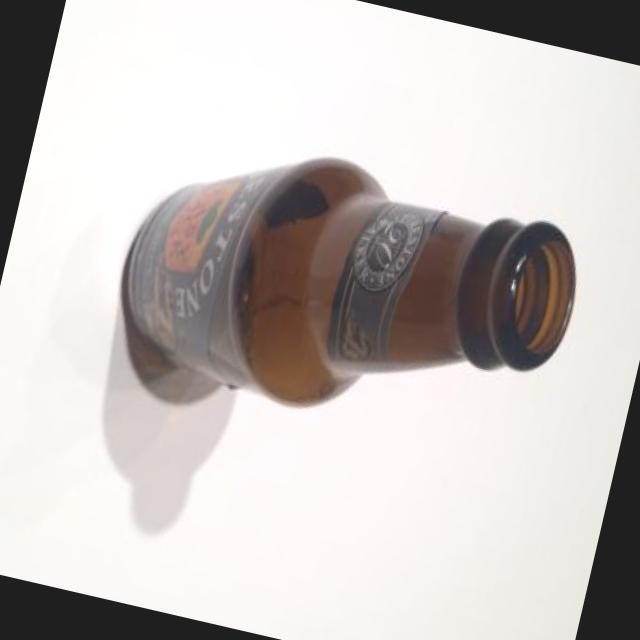chai_thuy_tinh: (118, 153, 578, 411)
